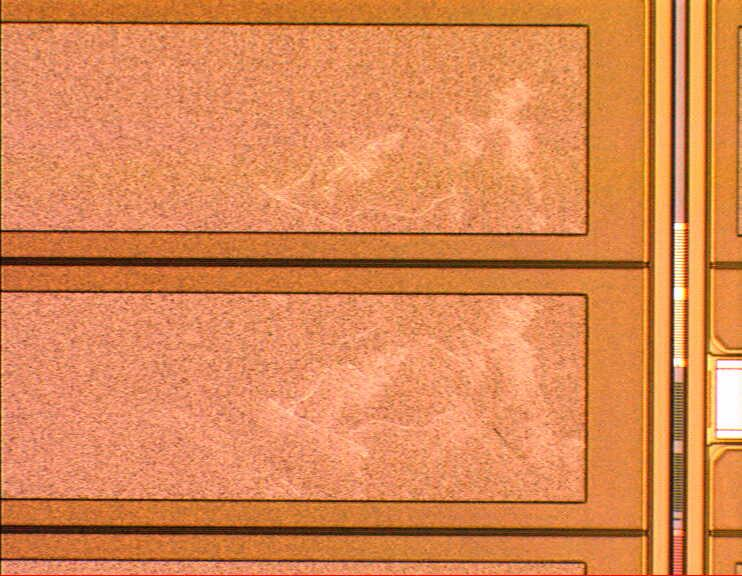SCRATCH: (244, 73, 595, 512)
